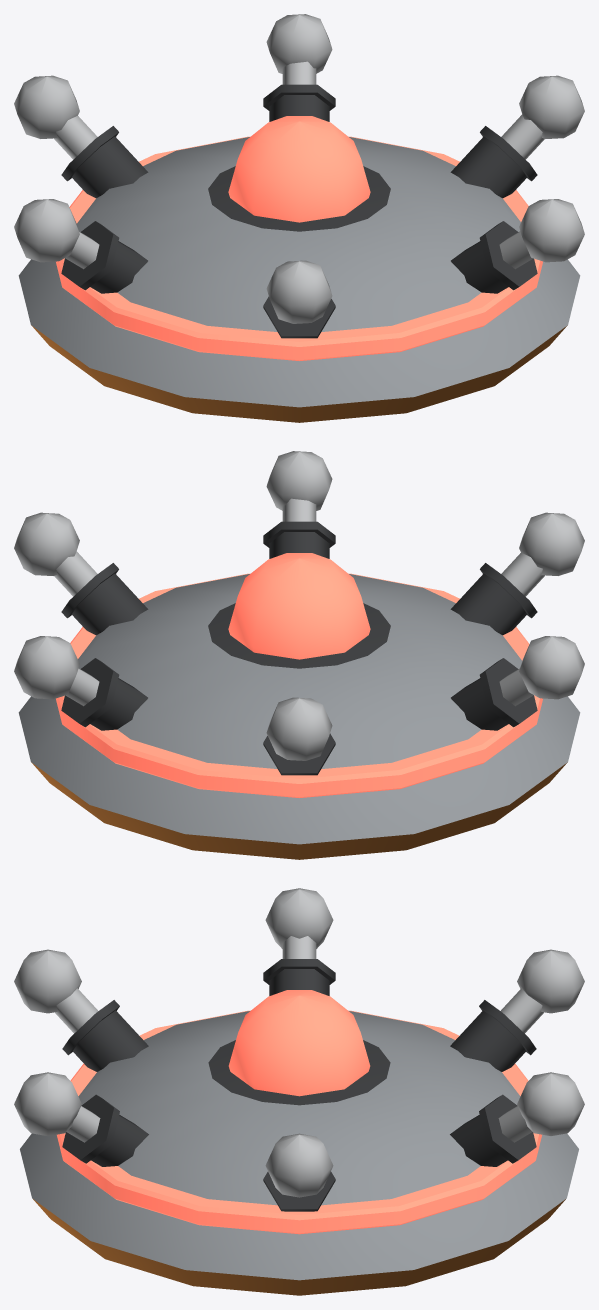
File: R4D_ExplosiveTrap.fbx
3 renders of one model, top to bottom at view 1: azimuth 30°, elevation 25°; view 2: azimuth 150°, elevation 25°; view 3: azimuth 270°, elevation 25°, orthographic.
Visible parts, largest first — view 1: R4D_ExplosiveTrap_Body, R4D_ExplosiveTrap_Lamp; view 2: R4D_ExplosiveTrap_Body, R4D_ExplosiveTrap_Lamp; view 3: R4D_ExplosiveTrap_Body, R4D_ExplosiveTrap_Lamp.
Boxes of the visible parts, x1,y1,x2,y2 form: R4D_ExplosiveTrap_Body: [14, 14, 584, 422]; R4D_ExplosiveTrap_Lamp: [228, 116, 370, 222]; R4D_ExplosiveTrap_Body: [14, 451, 584, 859]; R4D_ExplosiveTrap_Lamp: [228, 553, 370, 659]; R4D_ExplosiveTrap_Body: [14, 888, 584, 1295]; R4D_ExplosiveTrap_Lamp: [228, 990, 370, 1096].
Bounding box in the file's own units: 0.496 × 0.16 × 0.4365.
